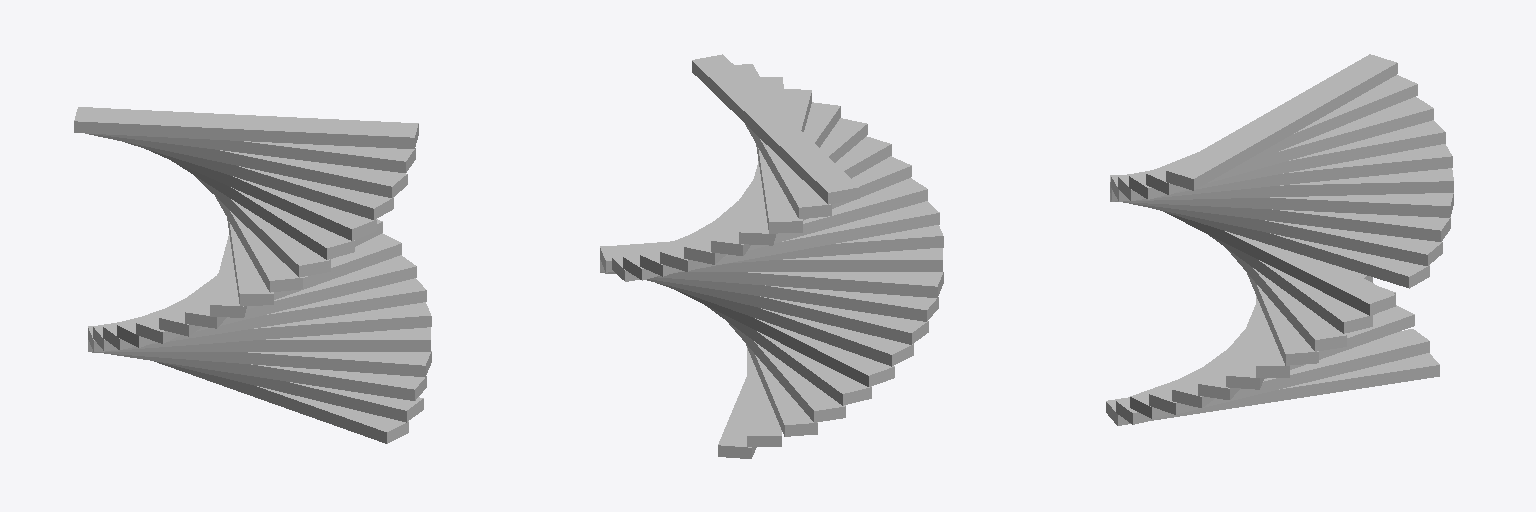
Rendered from top stair.obj.
3 views of the same model, side by side, from view 1: azimuth 30°, elevation 25°; view 2: azimuth 150°, elevation 25°; view 3: azimuth 270°, elevation 25° (orthographic).
Parts seen in each view (by area): view 1: Mesh59, Mesh57, Mesh43, Mesh48, Mesh40, Mesh58, Mesh41, Mesh44, Mesh56, Mesh42, Mesh37, Mesh53 (+10 smaller); view 2: Mesh59, Mesh46, Mesh47, Mesh51, Mesh42, Mesh45, Mesh44, Mesh48, Mesh50, Mesh39, Mesh40, Mesh58 (+10 smaller); view 3: Mesh59, Mesh39, Mesh55, Mesh38, Mesh50, Mesh57, Mesh54, Mesh53, Mesh52, Mesh37, Mesh56, Mesh51 (+10 smaller).
Part boxes in pixels (bbox=[...]): Mesh59: bbox=[74, 107, 418, 148]; Mesh57: bbox=[89, 134, 407, 197]; Mesh43: bbox=[92, 351, 431, 376]; Mesh48: bbox=[88, 302, 431, 351]; Mesh40: bbox=[88, 327, 430, 351]; Mesh58: bbox=[90, 107, 415, 172]; Mesh41: bbox=[104, 353, 426, 400]; Mesh44: bbox=[93, 278, 426, 351]; Mesh56: bbox=[125, 142, 393, 219]; Mesh42: bbox=[103, 255, 416, 349]; Mesh37: bbox=[154, 361, 408, 443]; Mesh53: bbox=[146, 149, 376, 240]; Mesh59: bbox=[692, 54, 859, 204]; Mesh46: bbox=[600, 272, 943, 297]; Mesh47: bbox=[650, 277, 938, 321]; Mesh51: bbox=[612, 201, 939, 281]; Mesh42: bbox=[647, 279, 928, 344]; Mesh45: bbox=[600, 246, 942, 271]; Mesh44: bbox=[657, 283, 913, 366]; Mesh48: bbox=[676, 290, 894, 386]; Mesh50: bbox=[623, 178, 927, 280]; Mesh39: bbox=[600, 225, 943, 272]; Mesh40: bbox=[705, 305, 871, 405]; Mesh58: bbox=[735, 64, 831, 218]; Mesh59: bbox=[1166, 54, 1397, 190]; Mesh39: bbox=[1165, 212, 1395, 315]; Mesh55: bbox=[1110, 193, 1453, 217]; Mesh38: bbox=[1116, 329, 1429, 424]; Mesh50: bbox=[1129, 203, 1442, 265]; Mesh57: bbox=[1129, 97, 1433, 199]; Mesh54: bbox=[1110, 168, 1453, 201]; Mesh53: bbox=[1111, 144, 1452, 201]; Mesh52: bbox=[1123, 202, 1450, 241]; Mesh37: bbox=[1106, 353, 1439, 425]; Mesh56: bbox=[1118, 120, 1445, 200]; Mesh51: bbox=[1156, 209, 1429, 288].
Size of the model in its own units: 38.41 by 33.32 by 38.92.